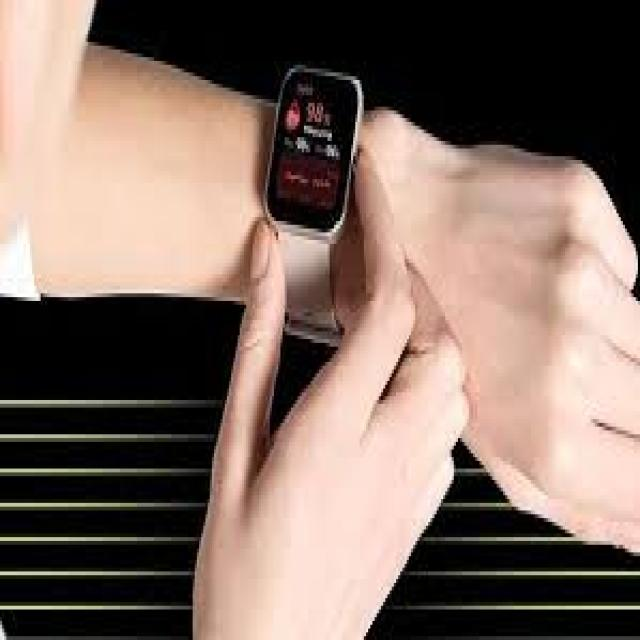objects: (254, 59, 382, 321)
